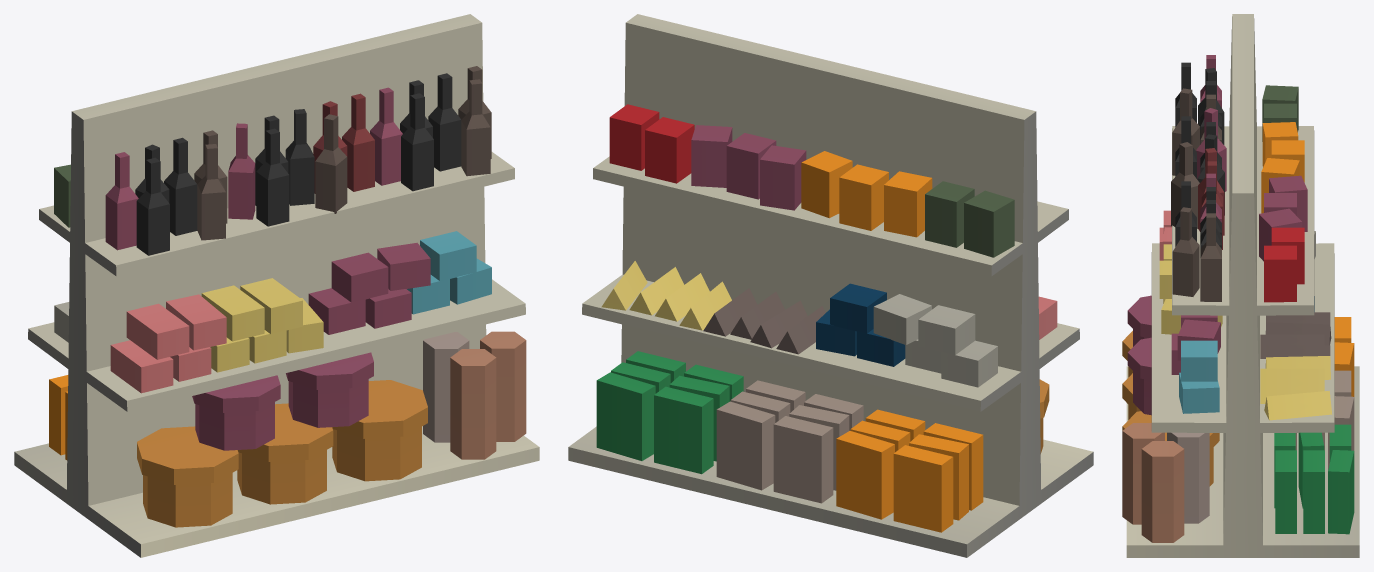
The model's file is B03_etale_01.fbx.
3 renders of one model, left to right at view 1: azimuth 30°, elevation 25°; view 2: azimuth 150°, elevation 25°; view 3: azimuth 270°, elevation 25°, orthographic. The views are drawn at different scales.
Visible parts, largest first — view 1: B03_etale_01; view 2: B03_etale_01; view 3: B03_etale_01.
Boxes of the visible parts, bbox=[...] form: B03_etale_01: bbox=[14, 14, 539, 557]; B03_etale_01: bbox=[568, 14, 1093, 557]; B03_etale_01: bbox=[1122, 14, 1359, 557].
Bounding box in the file's own units: 309 × 293 × 173.
